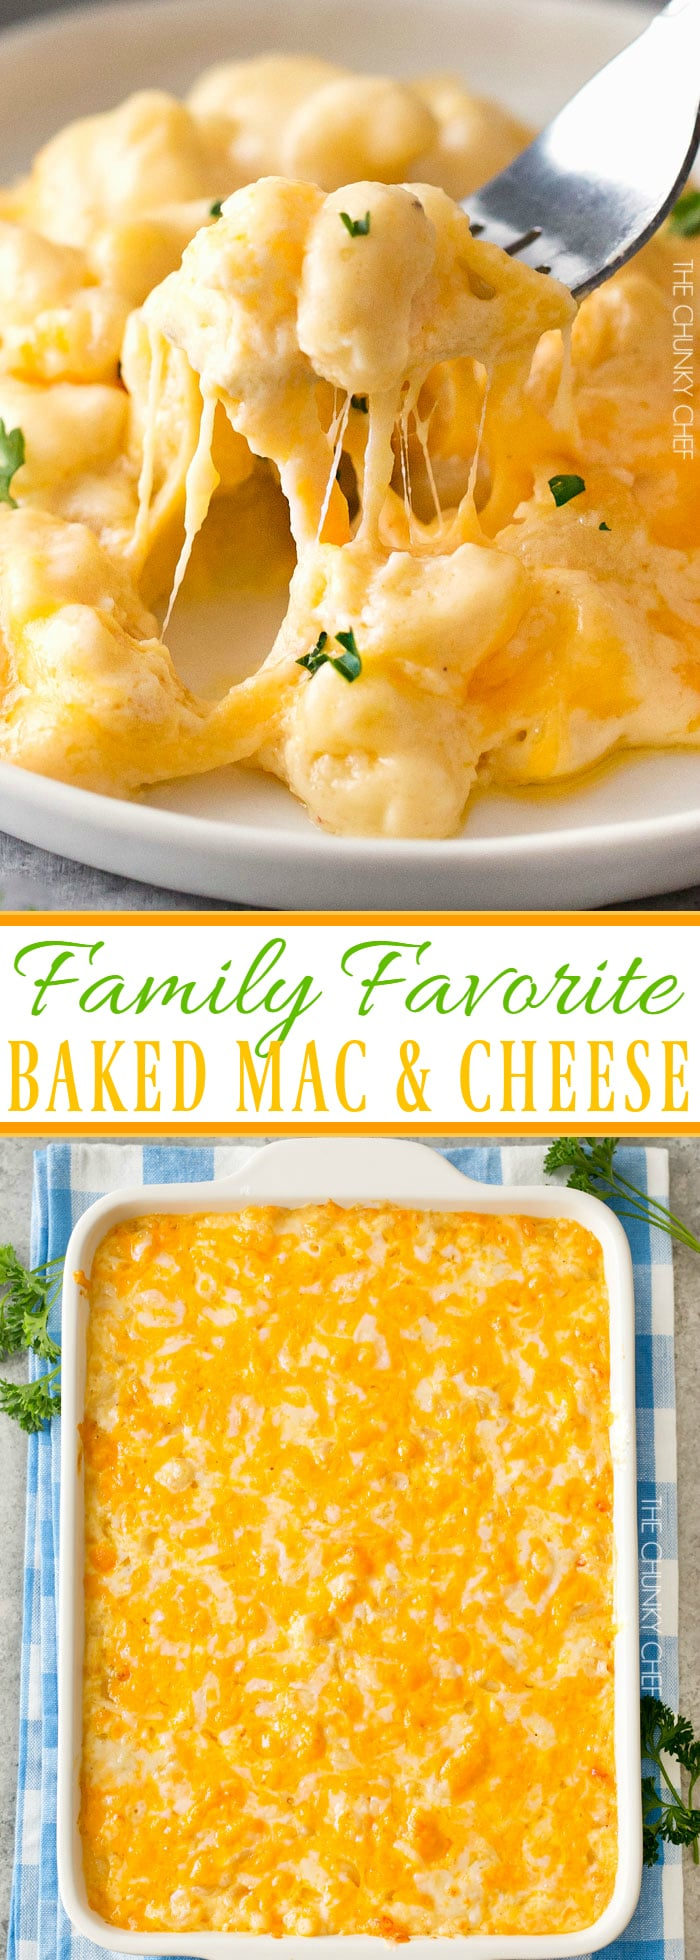macncheese: (70, 242, 692, 777)
